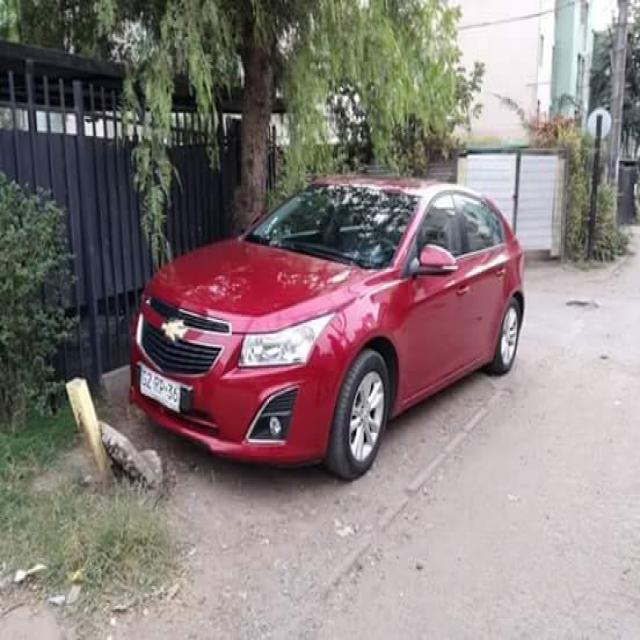patente: (137, 362, 192, 414)
